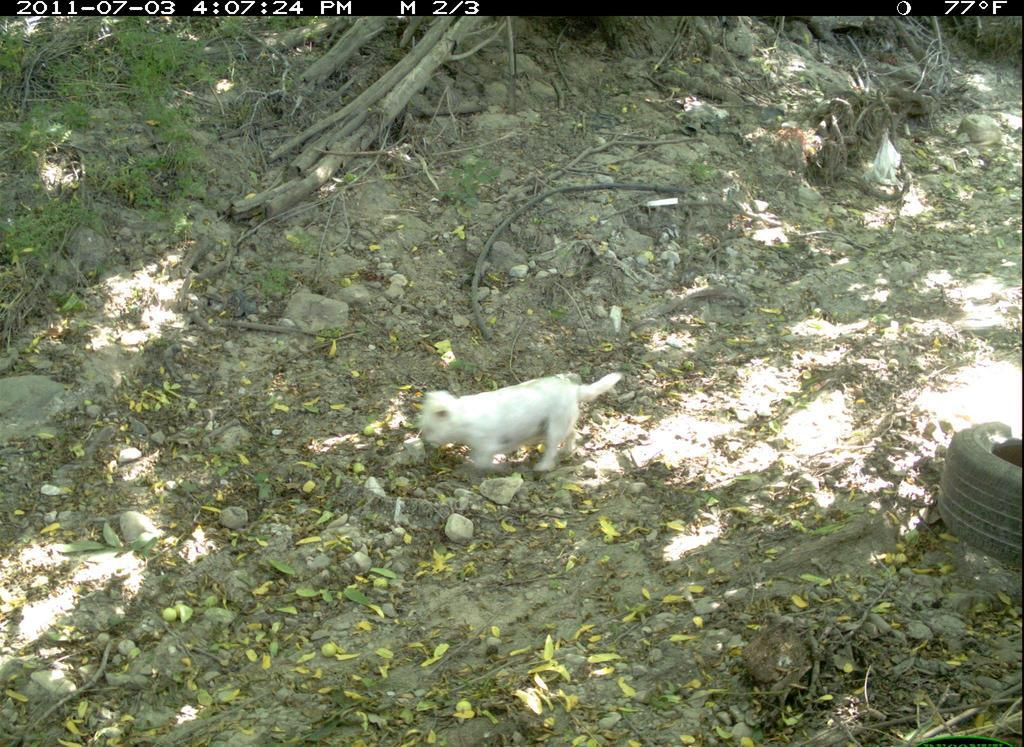dog: (411, 360, 632, 483)
